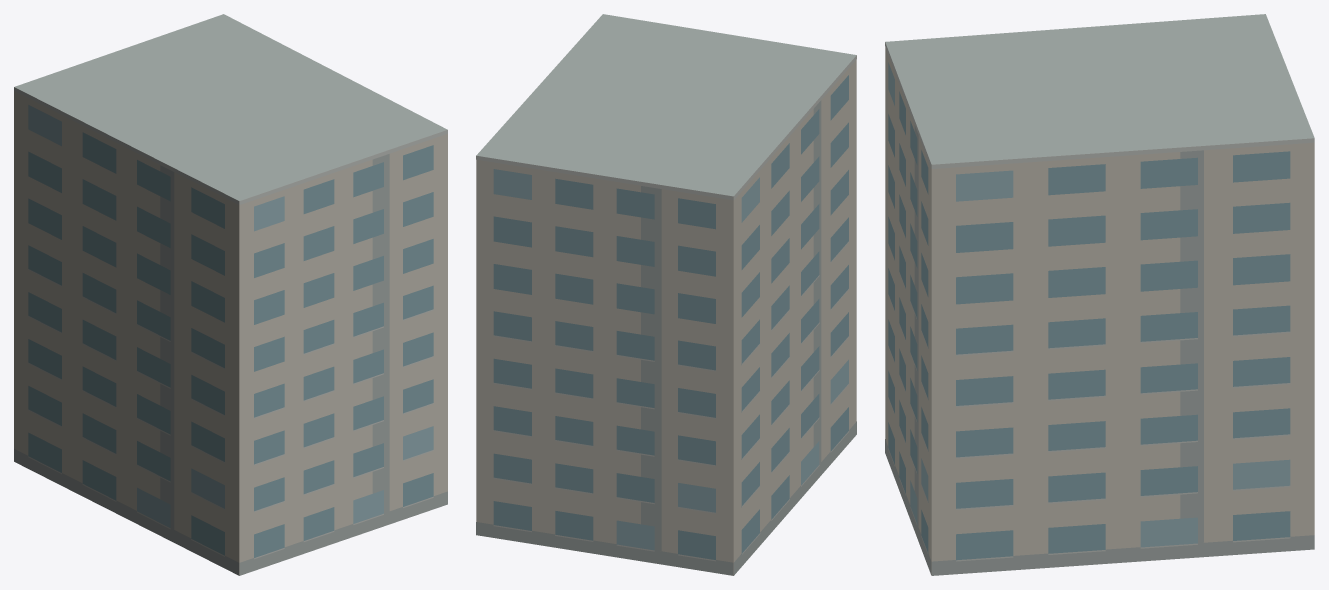
File: survey-upis-32767808.glb
3 renders of one model, left to right at view 1: azimuth 30°, elevation 25°; view 2: azimuth 150°, elevation 25°; view 3: azimuth 270°, elevation 25°, orthographic. The views are drawn at different scales.
Parts seen in each view (by area): view 1: survey-upis-32767808.tmp; view 2: survey-upis-32767808.tmp; view 3: survey-upis-32767808.tmp.
Part boxes in pixels (<box>): survey-upis-32767808.tmp: <box>14,14,447,575</box>; survey-upis-32767808.tmp: <box>476,14,856,575</box>; survey-upis-32767808.tmp: <box>885,14,1314,575</box>.
Size of the model in its own units: 17.94 by 22.8 by 21.6.
